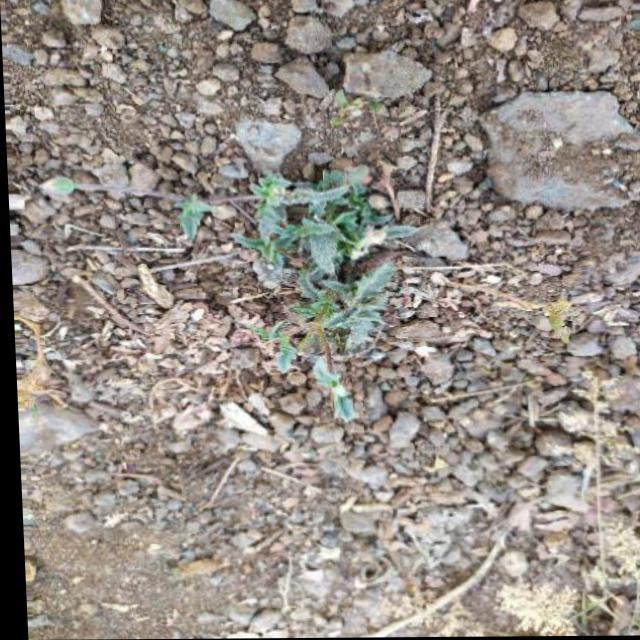weed: (170, 138, 416, 463)
